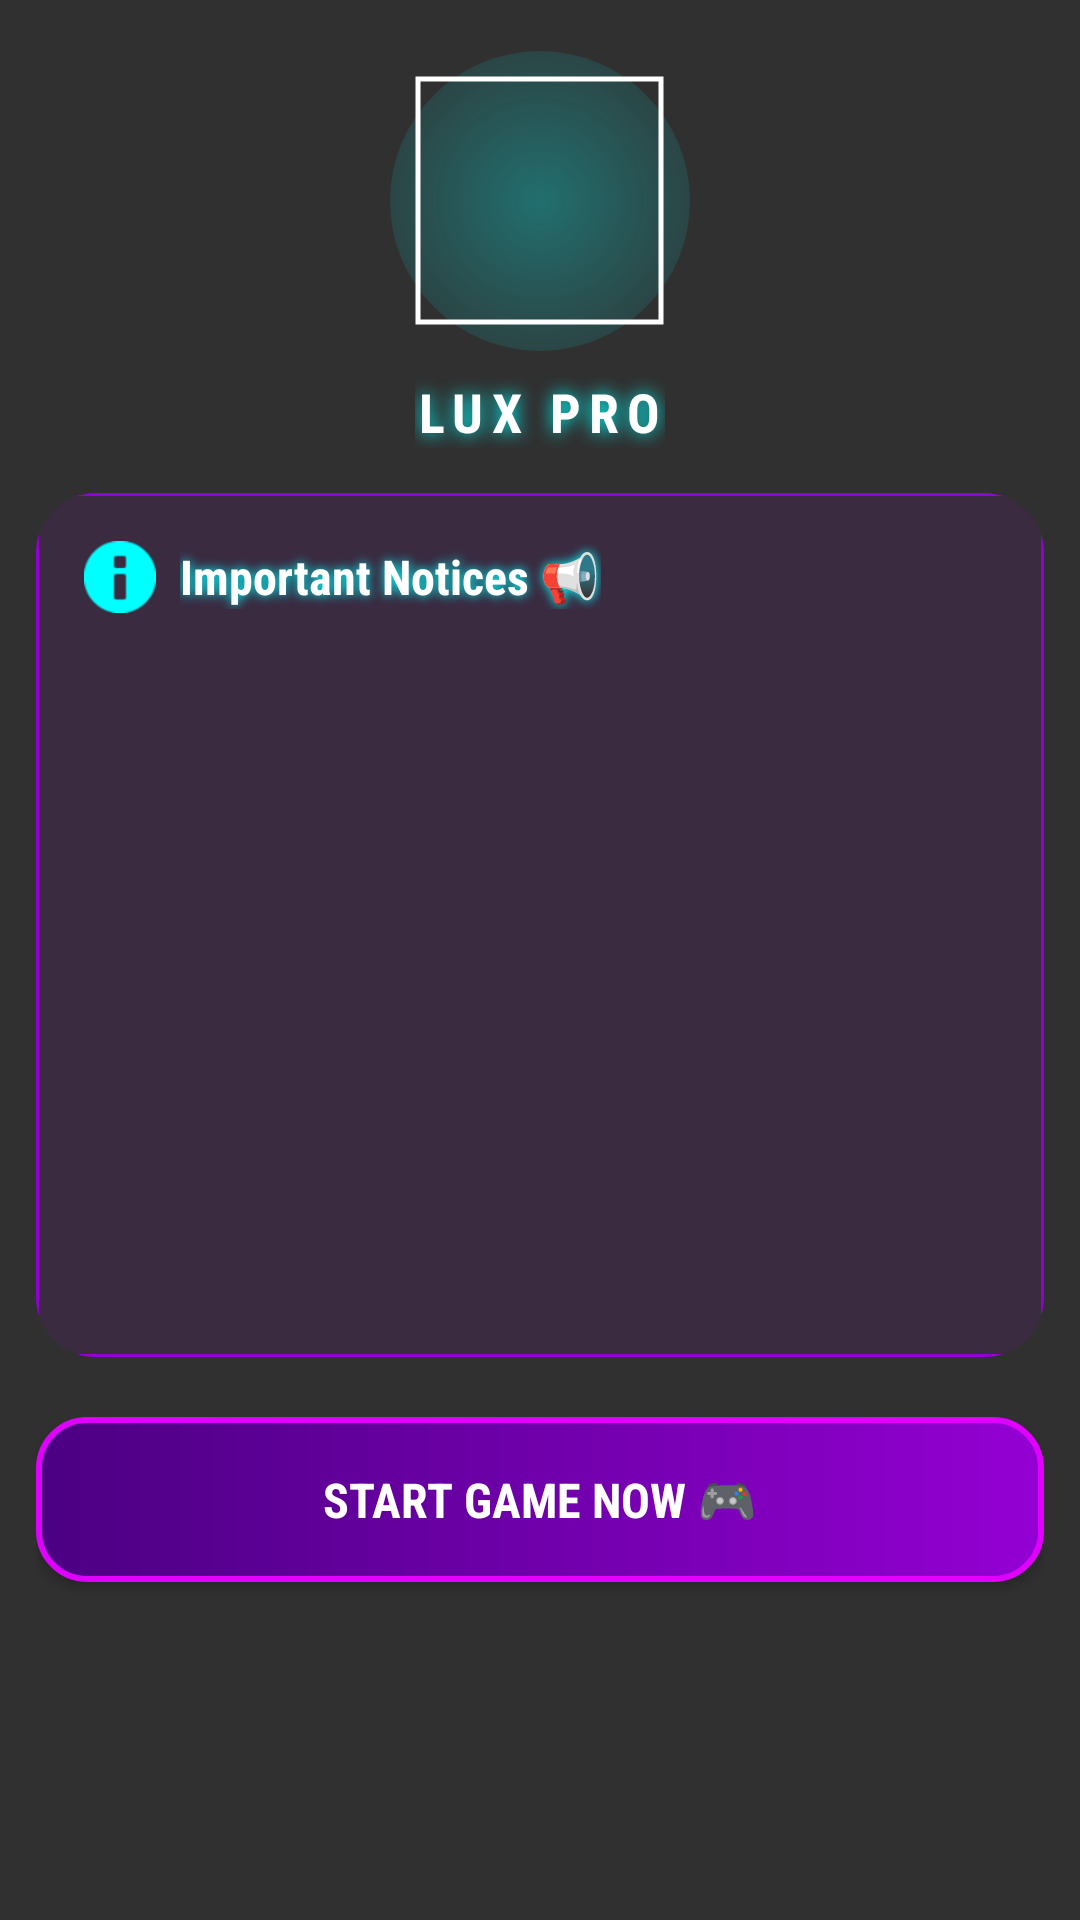

Screen size 1080 × 1920. Icon name, then its box in pixels as (left=x1, top=y1, right=x2, bottom=y2):
info: (left=84, top=541, right=156, bottom=613)
